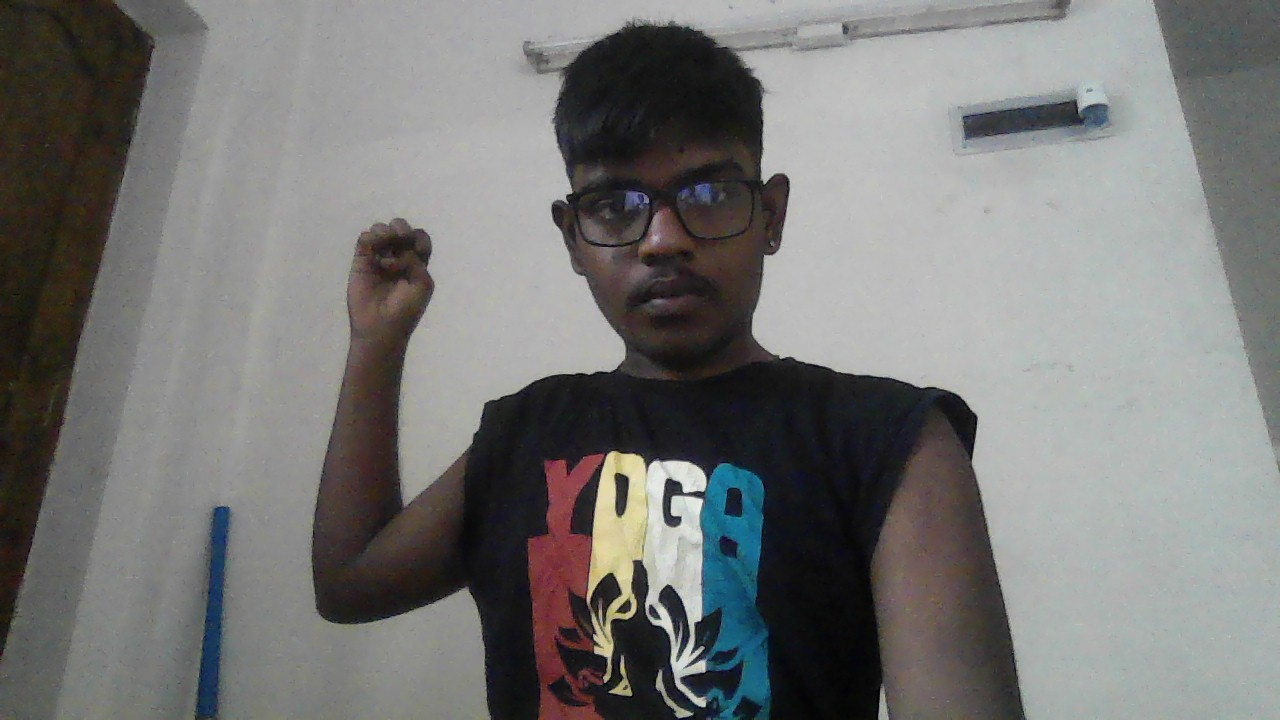E: (346, 218, 434, 349)
